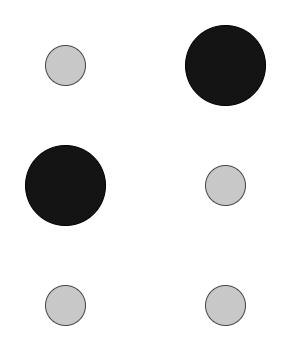I: (19, 20, 272, 337)
